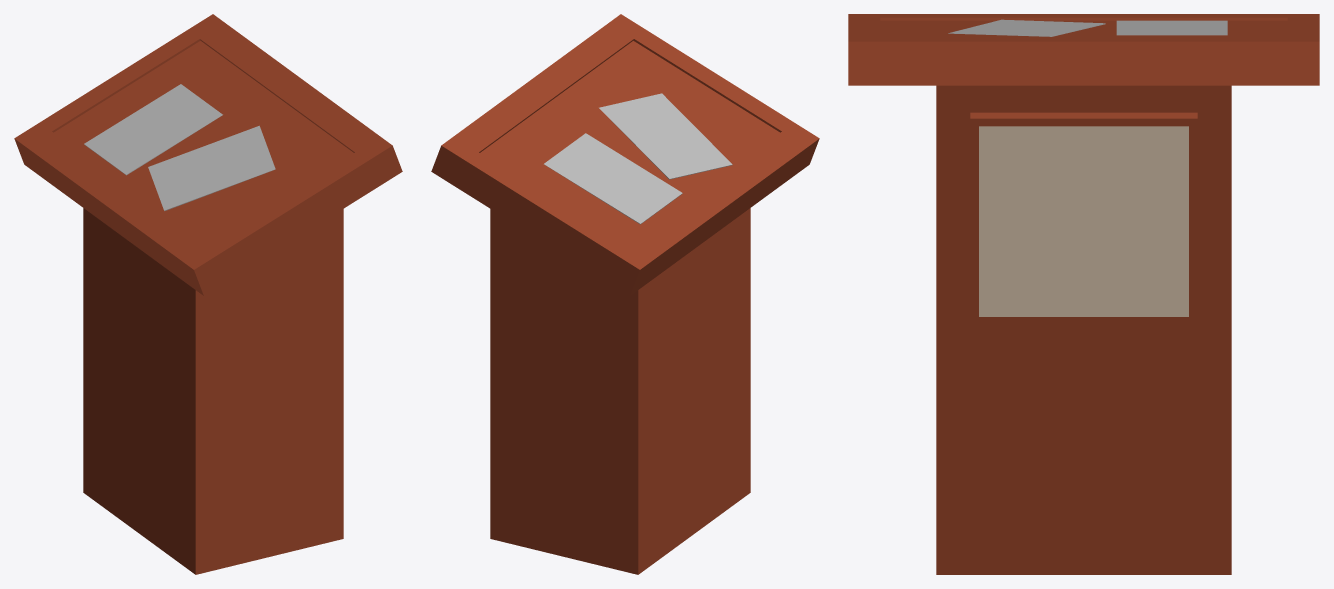
The model's file is lectern.fbx.
3 renders of one model, left to right at view 1: azimuth 30°, elevation 25°; view 2: azimuth 150°, elevation 25°; view 3: azimuth 270°, elevation 25°, orthographic. The views are drawn at different scales.
Parts seen in each view (by area): view 1: lectern, paper.001, paper; view 2: lectern, paper, paper.001; view 3: lectern, paper, paper.001.
Boxes of the visible parts, left/top/right/bottom form: lectern: left=14, top=14, right=402, bottom=574; paper.001: left=148, top=125, right=275, bottom=210; paper: left=84, top=84, right=222, bottom=175; lectern: left=431, top=14, right=819, bottom=574; paper: left=544, top=133, right=682, bottom=224; paper.001: left=599, top=93, right=732, bottom=179; lectern: left=848, top=14, right=1319, bottom=574; paper: left=1116, top=20, right=1227, bottom=35; paper.001: left=948, top=19, right=1105, bottom=36.
Size of the model in its own units: 61.89 by 117 by 92.29.
